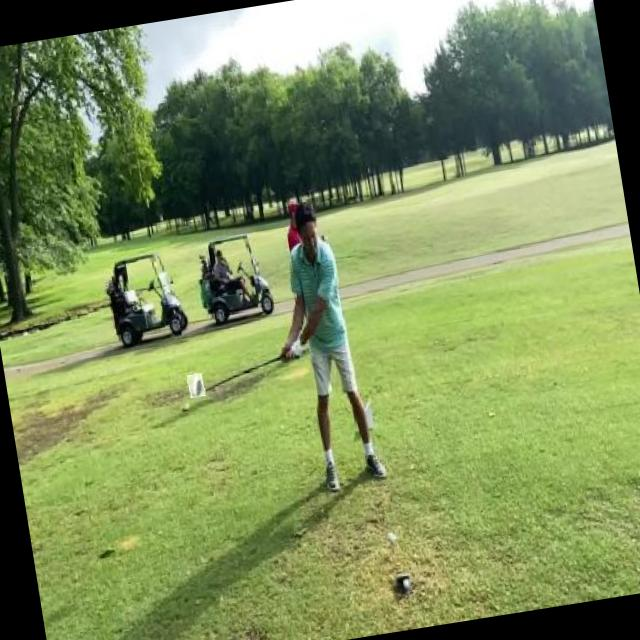club head: (187, 373, 206, 398)
